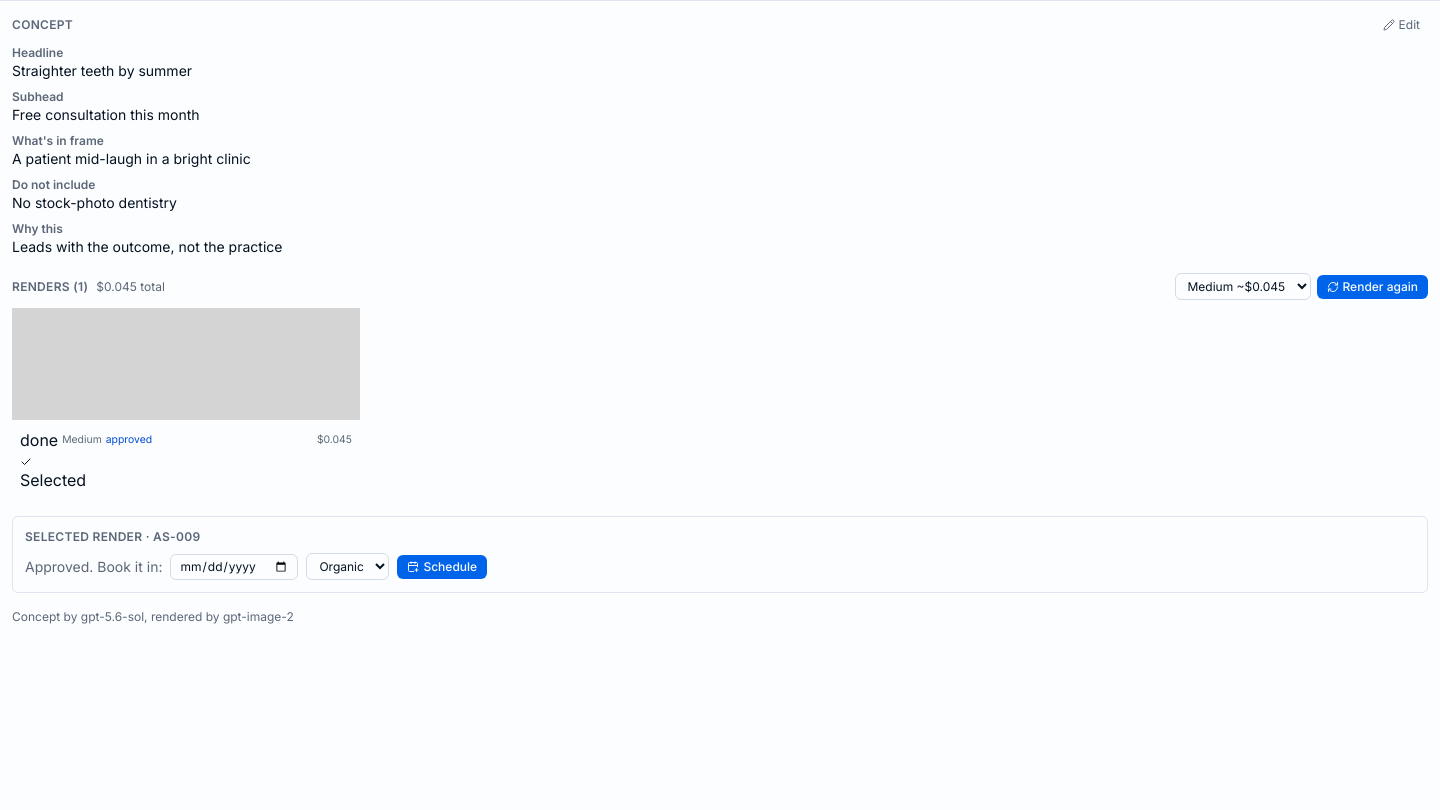
Test: ConceptWorkspace — approve and schedule › will not book a date it was not given
This screenshot has width=1440, height=810.
Click the button "Schedule". click: (442,566)
box: [397,554,487,578]
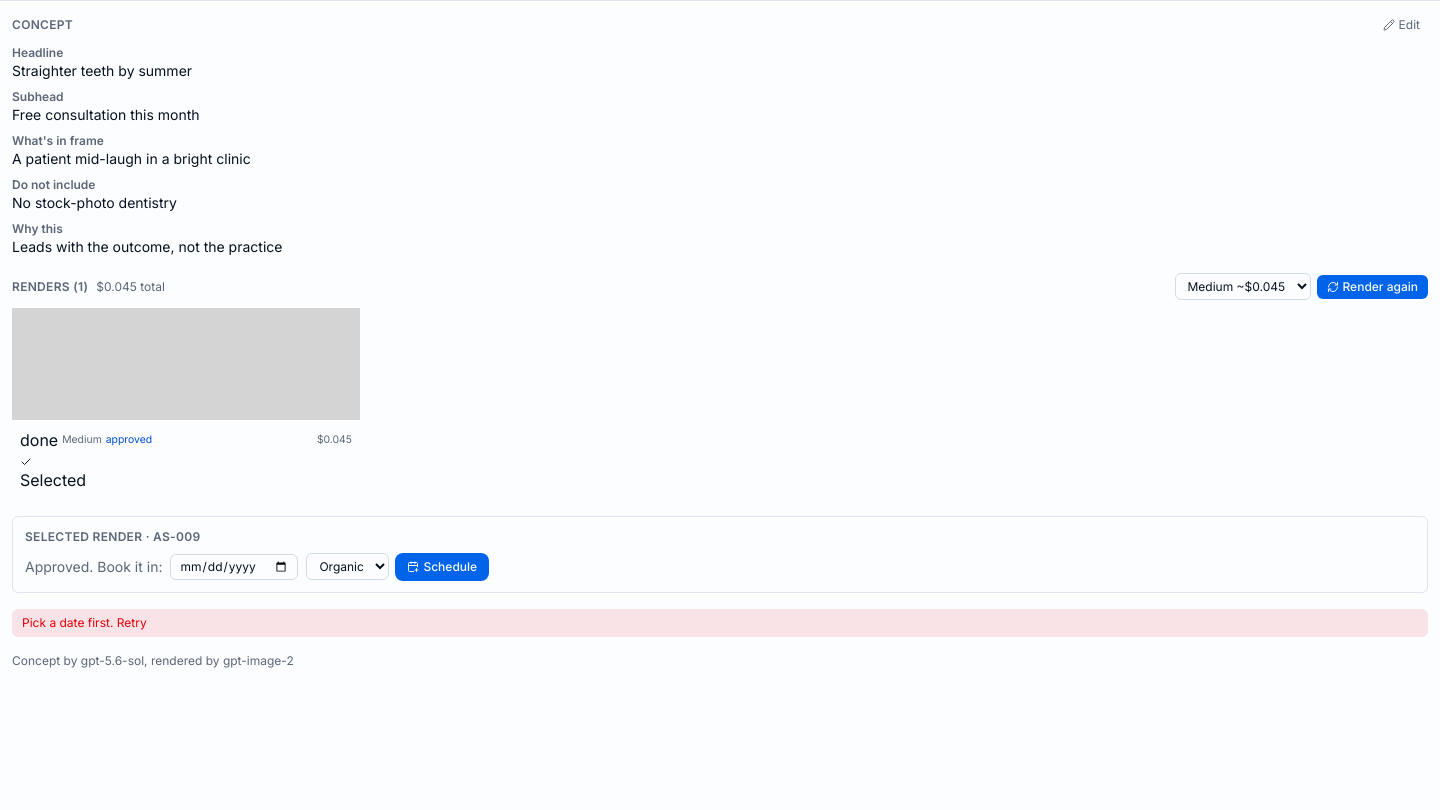
Expected: the message shows "Pick a date first.", [22,615,113,630]
